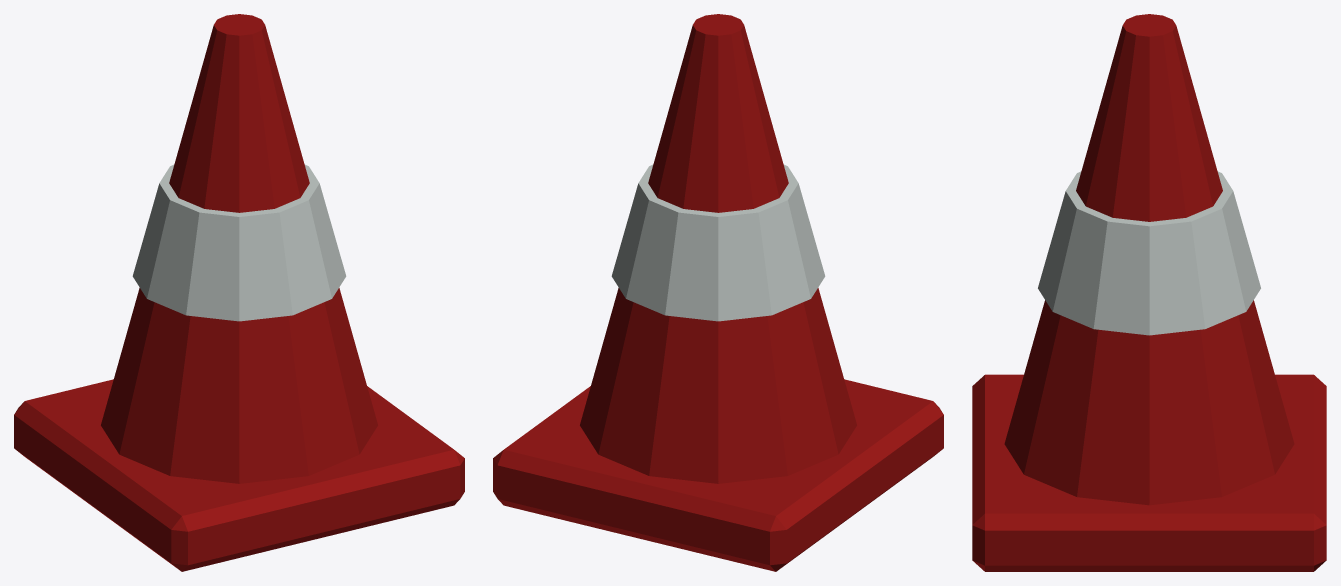
File: TrafficCone.fbx
3 views of the same model, side by side, from view 1: azimuth 30°, elevation 25°; view 2: azimuth 150°, elevation 25°; view 3: azimuth 270°, elevation 25° (orthographic). The views are drawn at different scales.
Visible parts, largest first — view 1: TrafficCone; view 2: TrafficCone; view 3: TrafficCone.
Boxes of the visible parts, x1,y1,x2,y2 form: TrafficCone: (14, 14, 464, 571); TrafficCone: (493, 14, 943, 571); TrafficCone: (972, 14, 1326, 571).
Bounding box in the file's own units: 33 × 49 × 33.
1 material, 1 textured.
